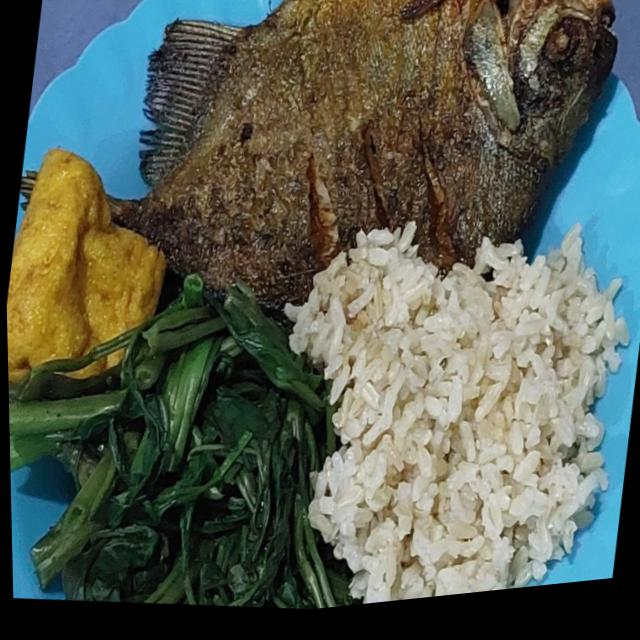ikan goreng: (0, 0, 631, 393)
kangkung: (5, 249, 354, 640)
